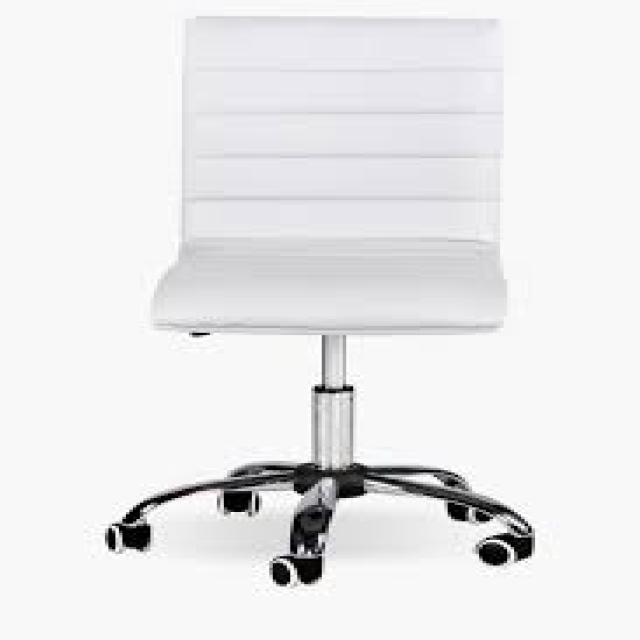chair: (56, 7, 626, 636)
